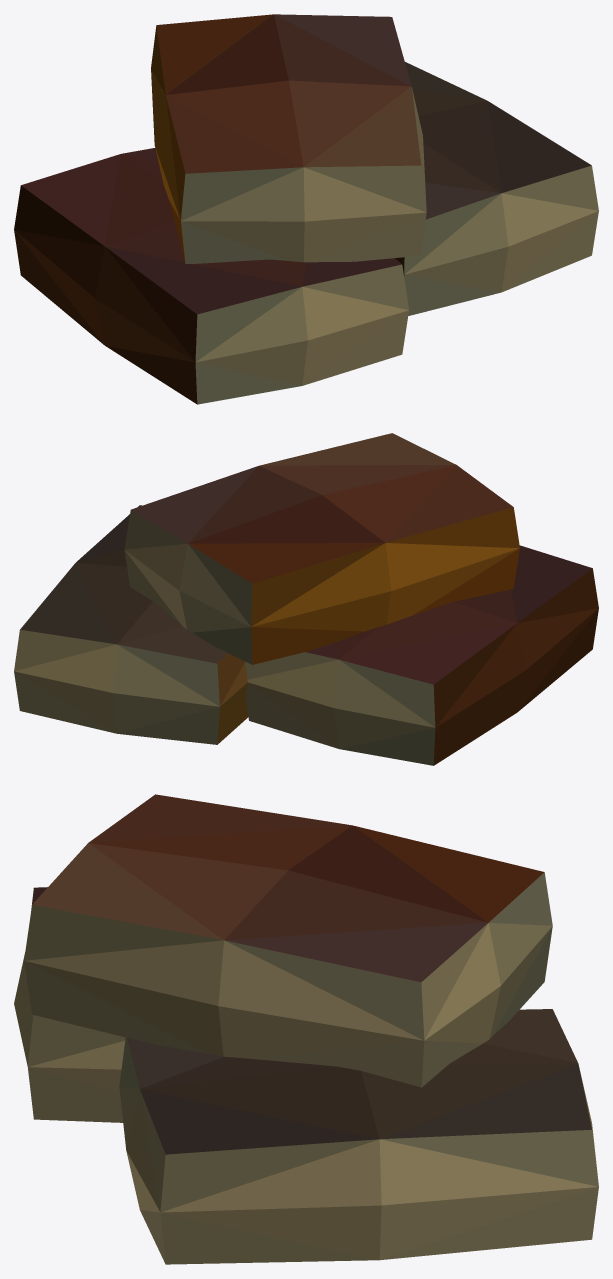
Rendered from prop_literature_book_pile_4.fbx.
3 renders of one model, top to bottom at view 1: azimuth 30°, elevation 25°; view 2: azimuth 150°, elevation 25°; view 3: azimuth 270°, elevation 25°, orthographic. The views are drawn at different scales.
Parts seen in each view (by area): view 1: prop_literature_book_pile_4; view 2: prop_literature_book_pile_4; view 3: prop_literature_book_pile_4.
Part boxes in pixels (x1=…): prop_literature_book_pile_4: x1=14, y1=14, x2=598, y2=404; prop_literature_book_pile_4: x1=14, y1=433, x2=598, y2=765; prop_literature_book_pile_4: x1=14, y1=794, x2=598, y2=1264.
Size of the model in its own units: 1.08 by 0.4738 by 0.9596.
